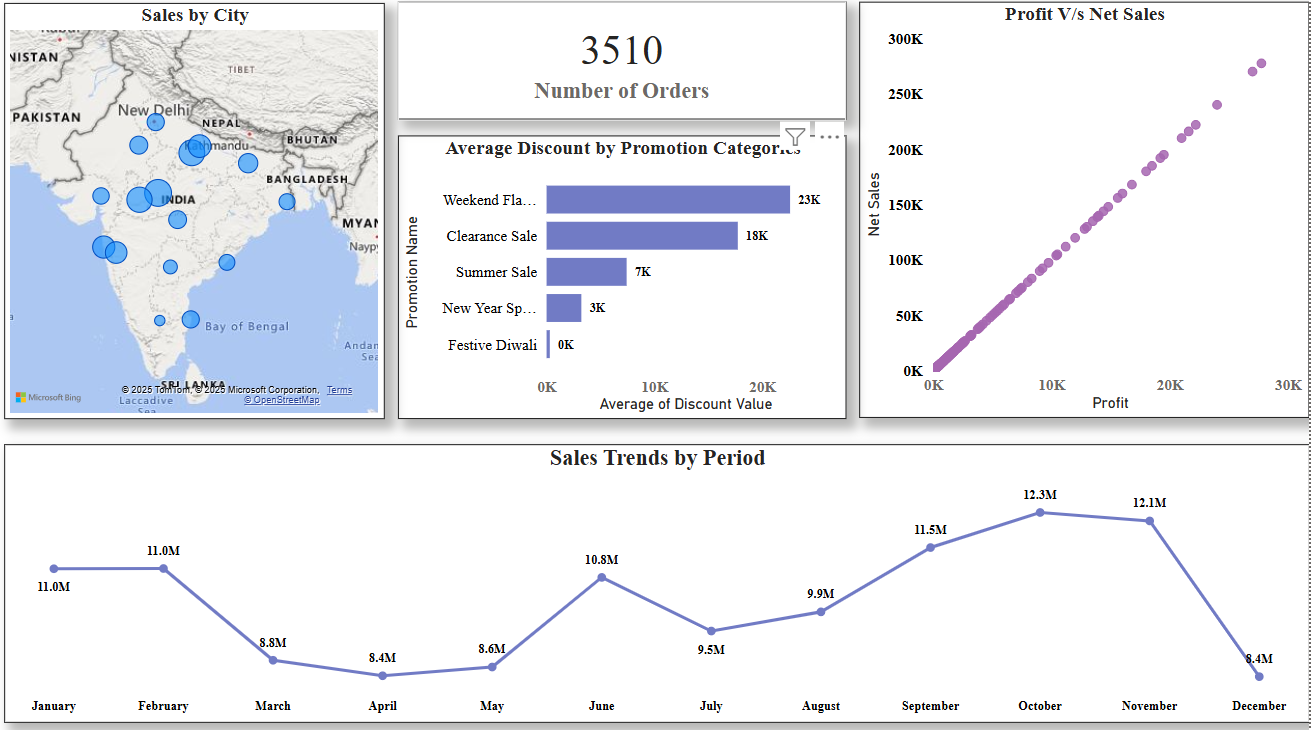

This screenshot's page, from the dashboard's own definition file:
{"tool":"powerbi","page":{"name":"Overview","canvas":[1280,720],"ordinal":0},"visuals":[{"type":"lineChart","title":"Sales Trends by Period","fields":{"Y":["Sum(Fact Table.Net Sales  )"],"Category":["Fact Table.Date Hierarchy.Year","Fact Table.Date Hierarchy.Quarter","Fact Table.Date Hierarchy.Month","Fact Table.Date Hierarchy.Day"]},"box":[20,440,1260,268.6],"z":0},{"type":"scatterChart","title":"Profit V/s Net Sales  ","fields":{"X":["Fact Table.Profit"],"Y":["Fact Table.Net Sales  "]},"box":[845.2,13.7,434.2,401.4],"z":1000},{"type":"barChart","title":"Average Discount by Promotion Categories","fields":{"Category":["Dim Promotion.Promotion Name"],"Y":["Avg(Fact Table.Discount Value)"]},"box":[400,142.5,432.9,274],"z":2000},{"type":"map","title":"Sales by City","fields":{"Category":["Dim Customers.City"],"Size":["Sum(Fact Table.Net Sales  )"]},"box":[20,14.3,367.1,401.4],"z":3000},{"type":"card","fields":{"Values":["Count(Fact Table.OrderID)"]},"box":[400,13.7,432.9,113.7],"z":4000}]}

Visuals, with their boxes in screenshot pixels (x1, y1, x2, y2), scaled from the page's 1280x720 canvas onto the 1312x730 screenshot:
"Sales Trends by Period" lineChart: select_region(20, 446, 1311, 718)
"Profit V/s Net Sales  " scatterChart: select_region(866, 14, 1311, 421)
"Average Discount by Promotion Categories" barChart: select_region(410, 144, 854, 422)
"Sales by City" map: select_region(20, 14, 397, 421)
card - Count(Fact Table.OrderID): select_region(410, 14, 854, 129)
